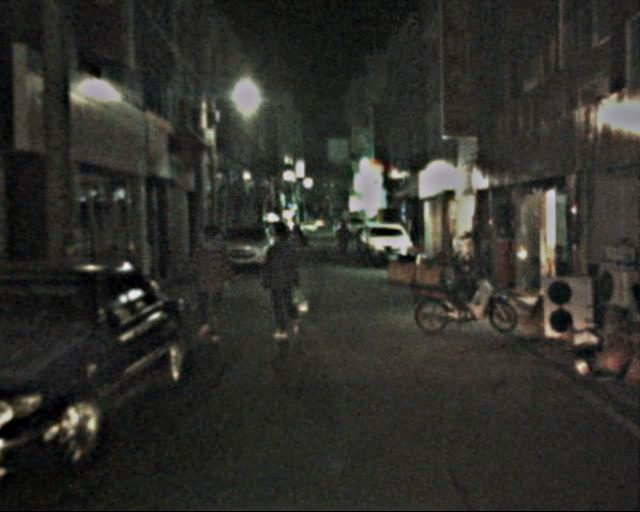person: (184, 222, 235, 346), (255, 225, 308, 337), (335, 219, 352, 261)
